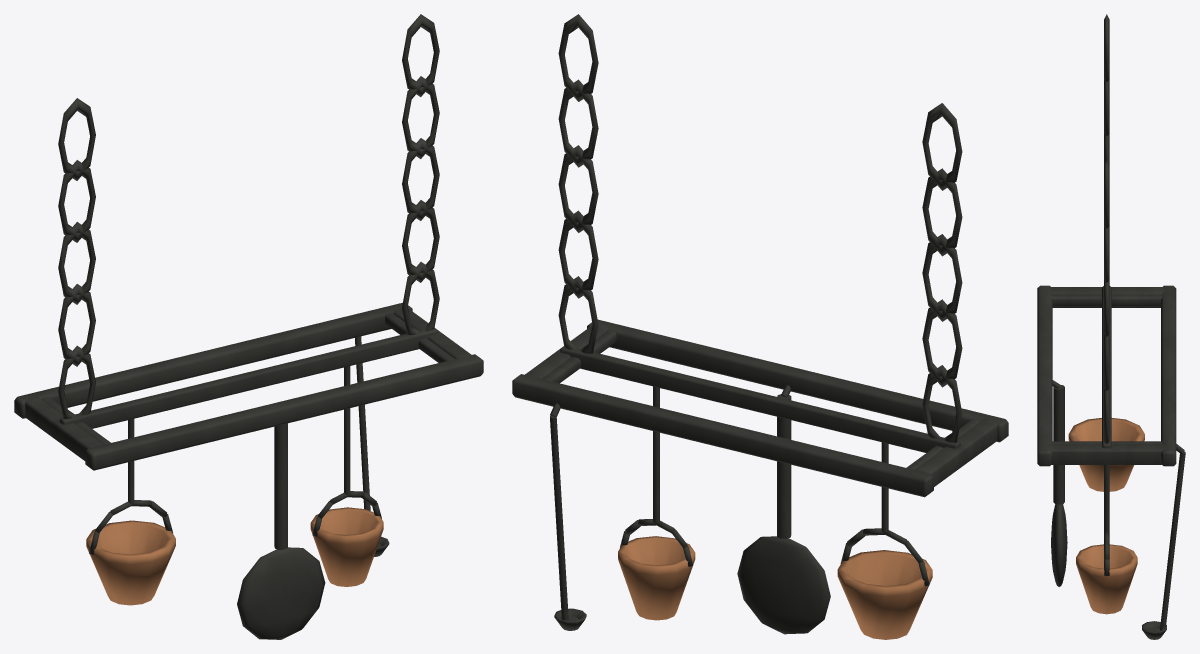
File: Furn_PotRack.fbx
3 views of the same model, side by side, from view 1: azimuth 30°, elevation 25°; view 2: azimuth 150°, elevation 25°; view 3: azimuth 270°, elevation 25° (orthographic). The views are drawn at different scales.
Parts seen in each view (by area): view 1: Furn_PotRack_Mesh; view 2: Furn_PotRack_Mesh; view 3: Furn_PotRack_Mesh.
Boxes of the visible parts, left/top/right/bottom form: Furn_PotRack_Mesh: left=14, top=14, right=483, bottom=639; Furn_PotRack_Mesh: left=512, top=14, right=1008, bottom=639; Furn_PotRack_Mesh: left=1037, top=14, right=1185, bottom=639.
Size of the model in its own units: 1.6 by 2.2 by 0.6.
